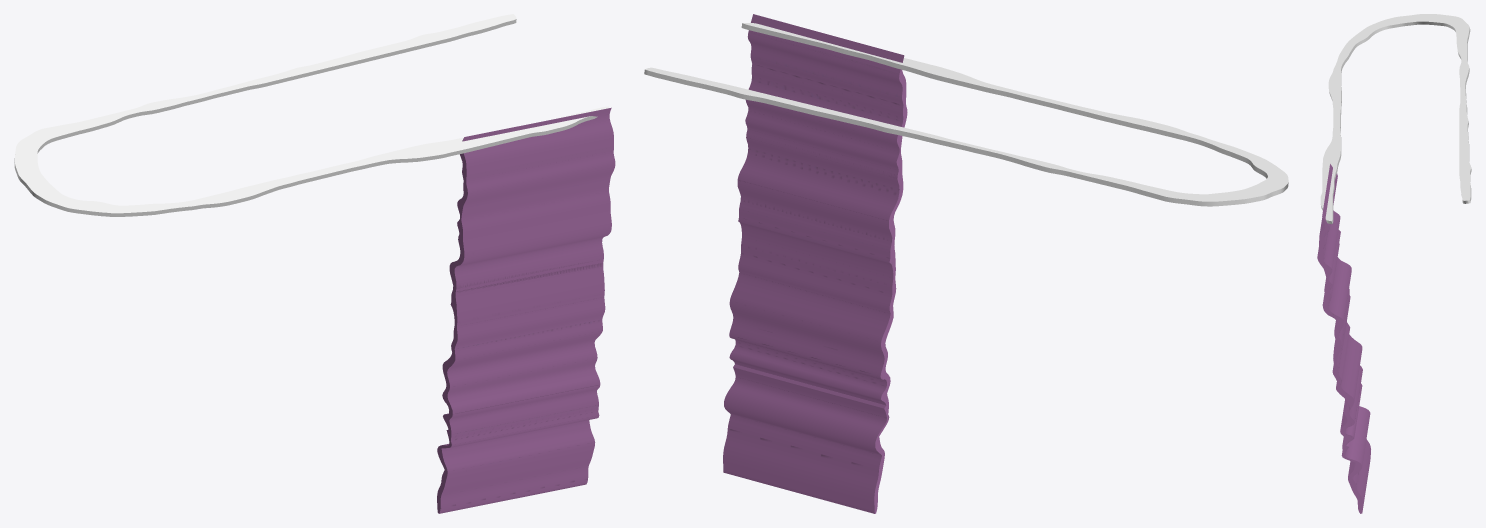
File: curtain.fbx
The picture shows the model from 3 angles, left to right: view 1: azimuth 30°, elevation 25°; view 2: azimuth 150°, elevation 25°; view 3: azimuth 270°, elevation 25°; orthographic projection. The views are drawn at different scales.
Parts seen in each view (by area): view 1: node_id109, root; view 2: node_id109, root; view 3: node_id109, root.
Boxes of the visible parts, x1,y1,x2,y2 form: node_id109: [437, 107, 615, 513]; root: [14, 14, 608, 216]; node_id109: [723, 14, 907, 513]; root: [644, 23, 1288, 206]; node_id109: [1317, 164, 1370, 513]; root: [1320, 14, 1471, 224].
Bounding box in the file's own units: 0.8893 × 0.6671 × 0.2976.
2 materials, 1 textured.
